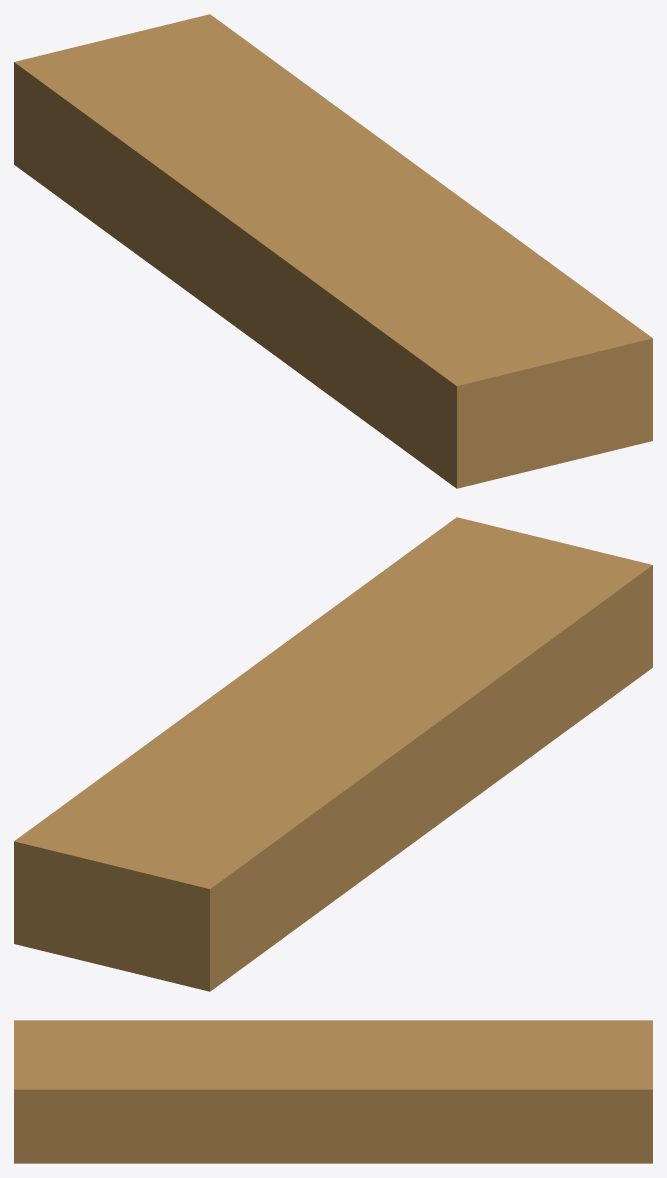
The picture shows the model from 3 angles, top to bottom: view 1: azimuth 30°, elevation 25°; view 2: azimuth 150°, elevation 25°; view 3: azimuth 270°, elevation 25°; orthographic projection. The views are drawn at different scales.
Visible parts, largest first — view 1: __delivery_mesh_6748; view 2: __delivery_mesh_6748; view 3: __delivery_mesh_6748.
Boxes of the visible parts, box(x1,y1,x2,y2) form: __delivery_mesh_6748: box(14, 14, 652, 488); __delivery_mesh_6748: box(14, 517, 652, 991); __delivery_mesh_6748: box(14, 1020, 652, 1163).
Size of the model in its own units: 0.09 by 0.045 by 0.352.
